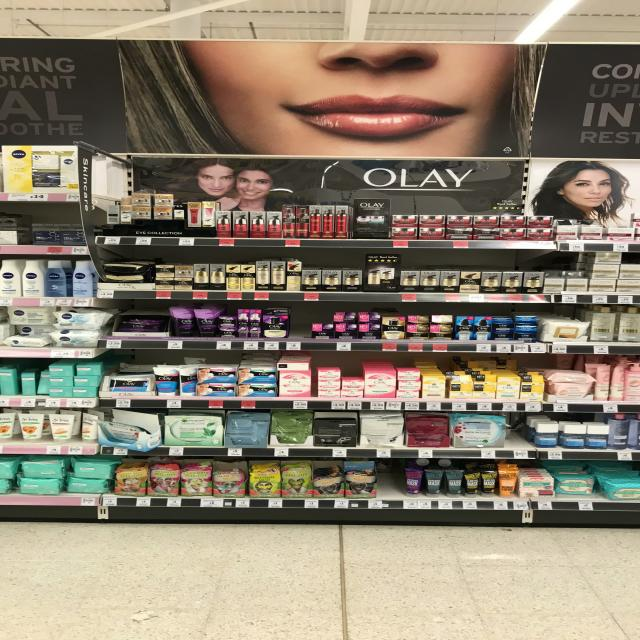100- O.O.S: (292, 308, 310, 350), (513, 414, 529, 458)
